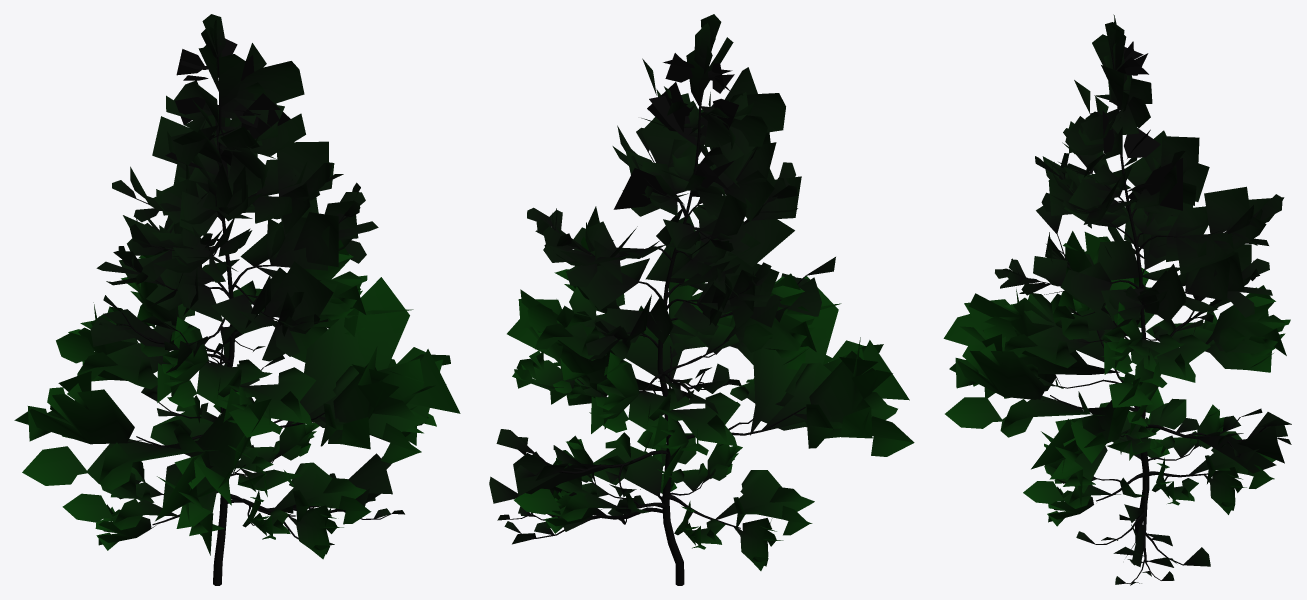
File: Pine_beach_small_03.fbx
3 renders of one model, left to right at view 1: azimuth 30°, elevation 25°; view 2: azimuth 150°, elevation 25°; view 3: azimuth 270°, elevation 25°, orthographic. The views are drawn at different scales.
Parts seen in each view (by area): view 1: pine_beach_small_03_LOD0; view 2: pine_beach_small_03_LOD0; view 3: pine_beach_small_03_LOD0.
Boxes of the visible parts, x1=… form: pine_beach_small_03_LOD0: x1=14, y1=14, x2=460, y2=585; pine_beach_small_03_LOD0: x1=489, y1=14, x2=914, y2=585; pine_beach_small_03_LOD0: x1=943, y1=14, x2=1291, y2=585.
Size of what is drawn, in the model's own units: 312 by 409 by 249.
